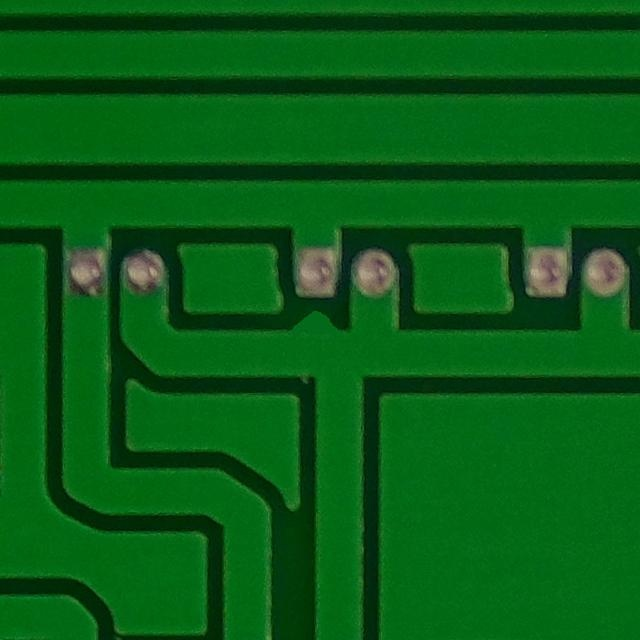spur: (283, 296, 357, 345)
